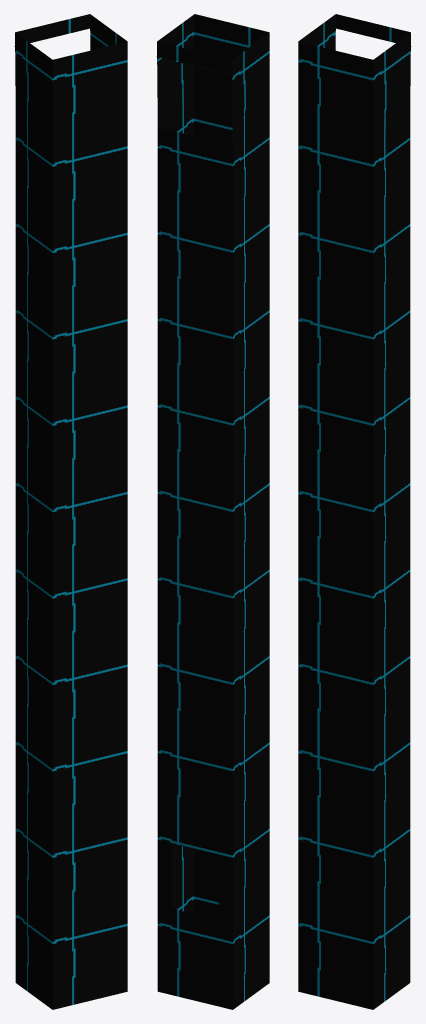
File: lift_stuff.glb
The picture shows the model from 3 angles, left to right: view 1: azimuth 30°, elevation 25°; view 2: azimuth 150°, elevation 25°; view 3: azimuth 330°, elevation 25°; orthographic projection.
Visible parts, largest first — view 1: elevator_shaft; view 2: elevator_shaft; view 3: elevator_shaft.
Boxes of the visible parts, box(x1,y1,x2,y2) form: elevator_shaft: box(14, 14, 127, 1009); elevator_shaft: box(156, 14, 269, 1009); elevator_shaft: box(298, 14, 411, 1009).
Bounding box in the file's own units: 3 × 36.3 × 2.66.
Materials: 1 (1 with a texture image).
